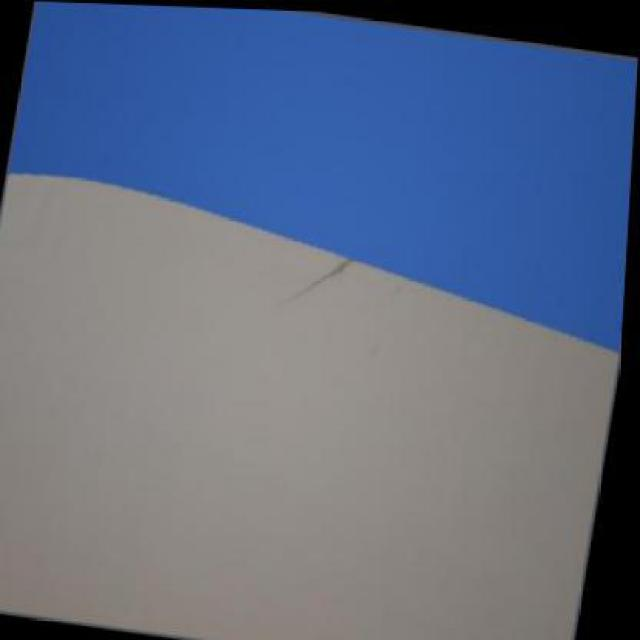Crack: (278, 241, 354, 313)
